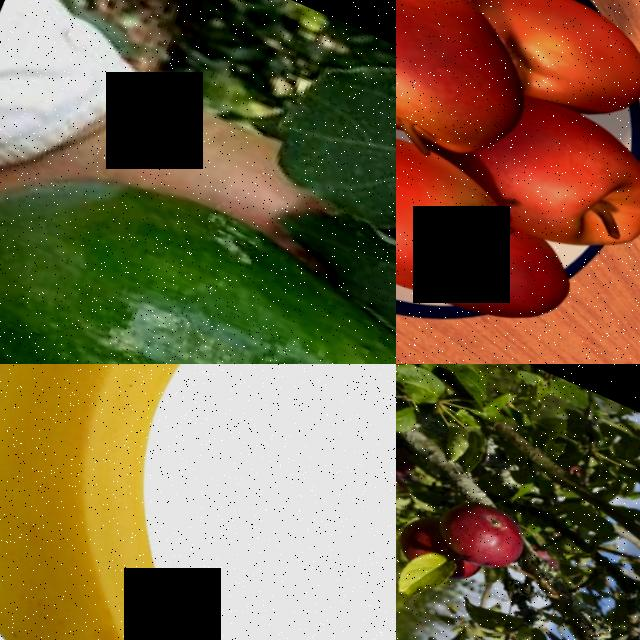apple: (475, 86, 640, 297), (396, 0, 574, 189), (396, 91, 516, 314), (507, 0, 640, 138), (468, 223, 586, 350), (415, 480, 548, 590)
avocado: (0, 117, 396, 364)
banana: (0, 364, 396, 640)
